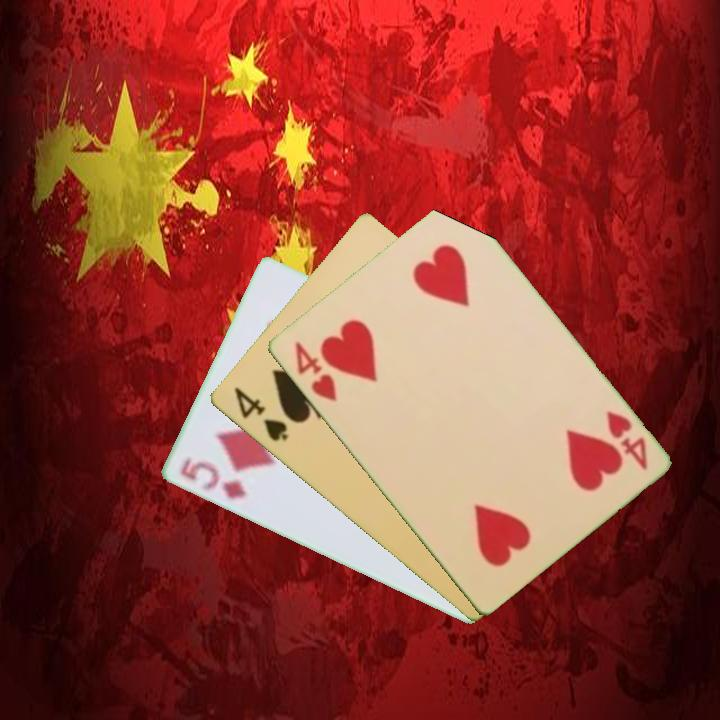4h: (290, 338, 340, 404), (602, 407, 650, 473)
4s: (229, 383, 291, 445)
5d: (176, 453, 249, 502)
